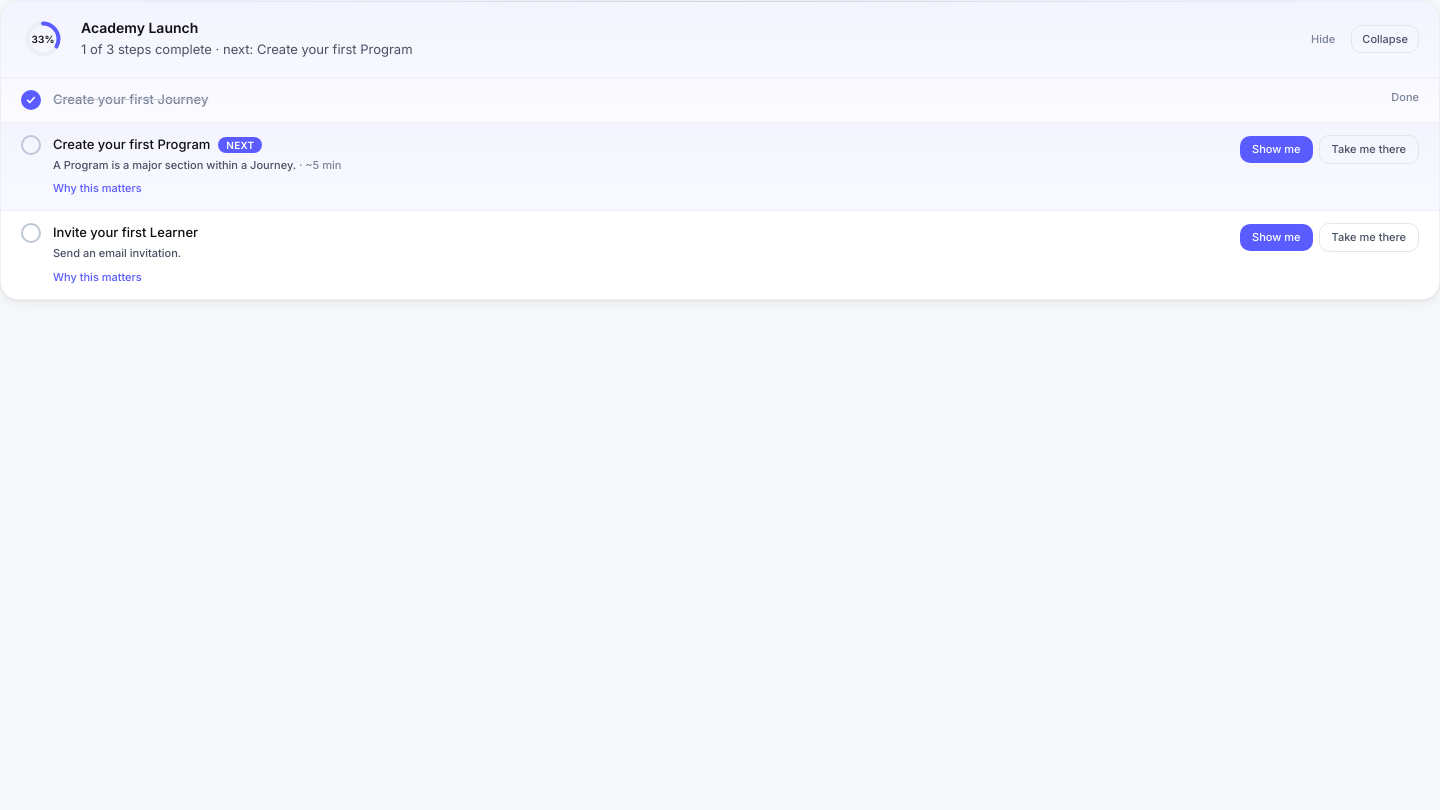
Test: Academy Launch checklist › 'Show me' launches the linked walkthrough
The width and height of the screenshot is (1440, 810).
Click the button "Show me" in the row of "min".
click(1276, 149)  # box [1240, 136, 1313, 163]
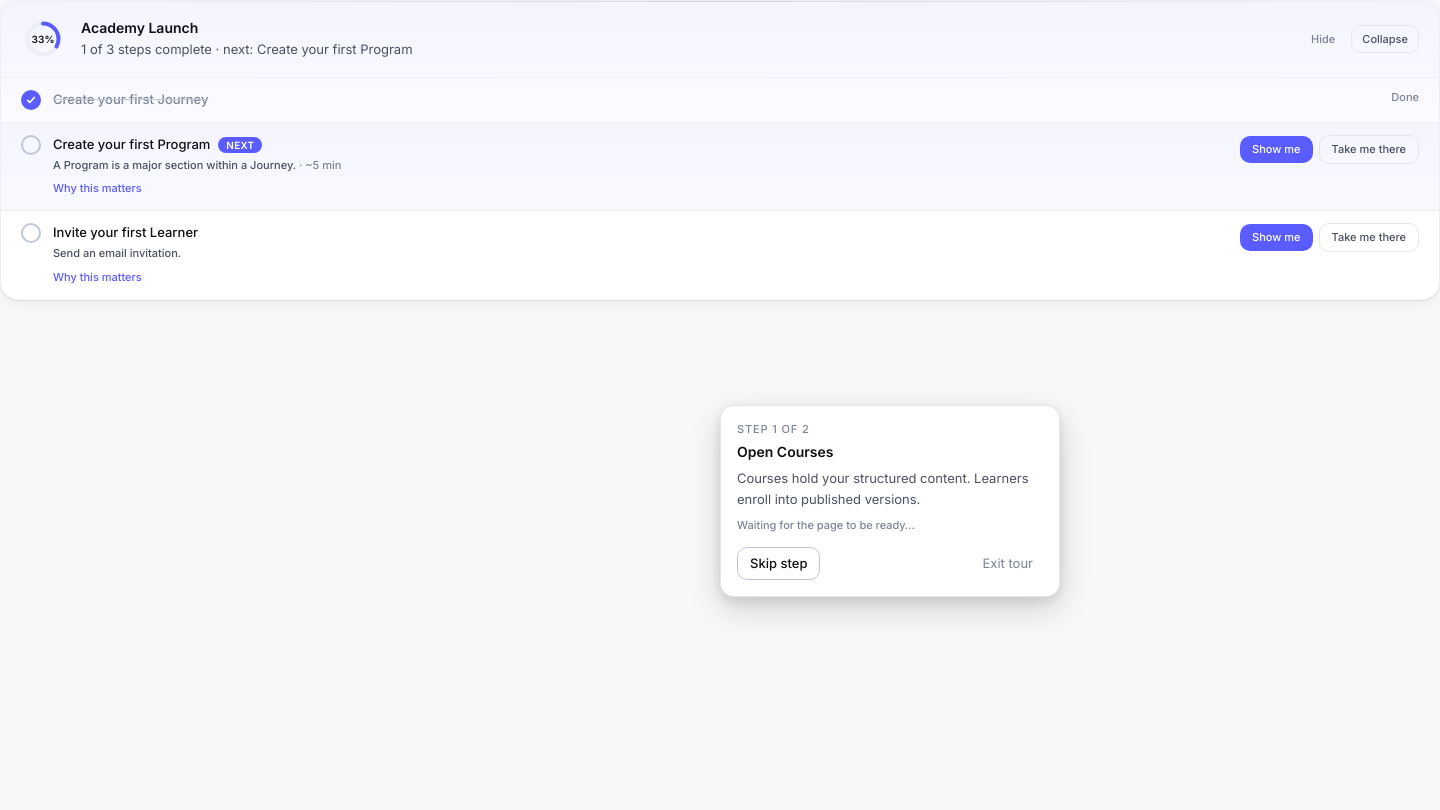
Expected: the dialog named "create a course" shows "Step 1 of 2", [720, 405, 1060, 597]
